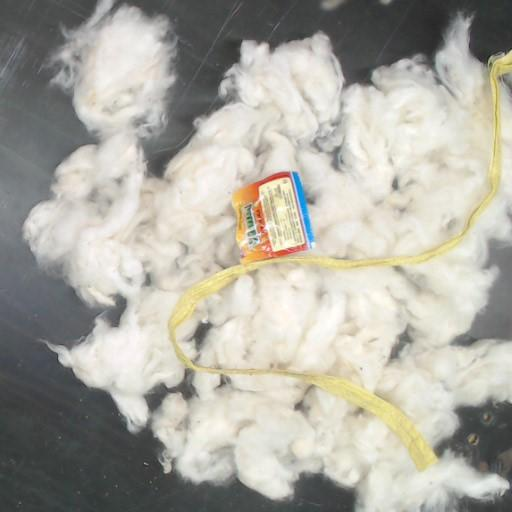conveyor belt: (131, 0, 511, 173)
cotton: (24, 0, 511, 511)
packet: (234, 172, 313, 259)
thread: (169, 50, 511, 470)
